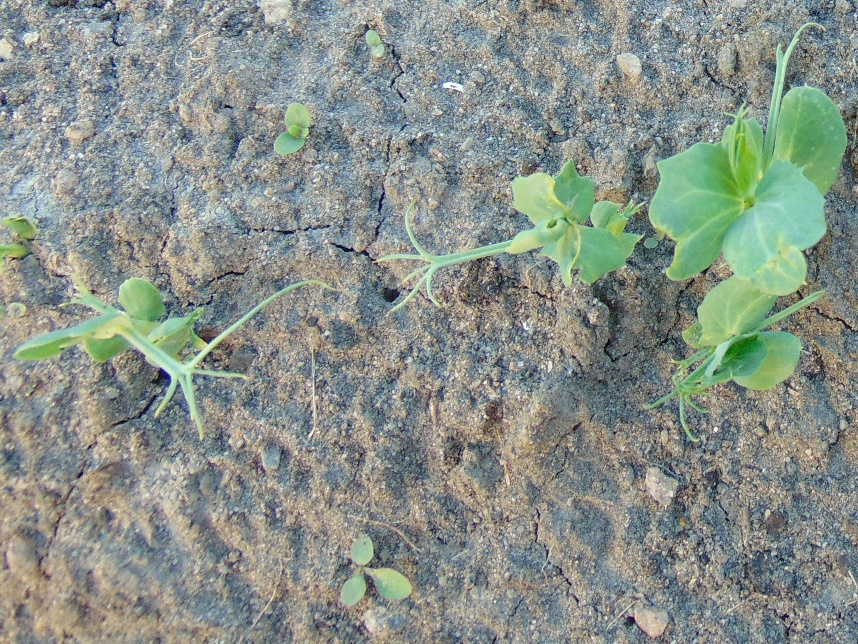crop: (638, 25, 844, 435), (24, 267, 335, 438), (368, 160, 644, 320)
weed: (337, 537, 412, 612), (269, 97, 311, 158), (361, 28, 383, 58)
